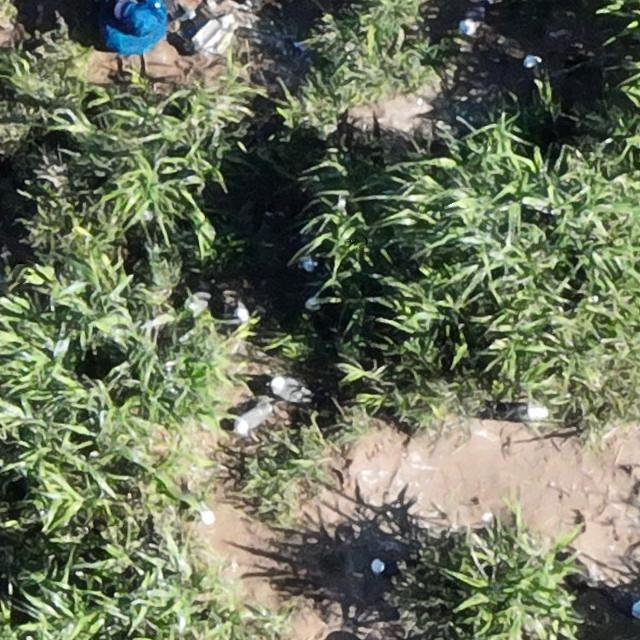umineko: (232, 397, 274, 435), (459, 1, 489, 36), (506, 401, 546, 421), (519, 53, 549, 78), (192, 497, 215, 527), (304, 247, 330, 273), (369, 557, 402, 573), (308, 288, 332, 310), (271, 377, 295, 398)
